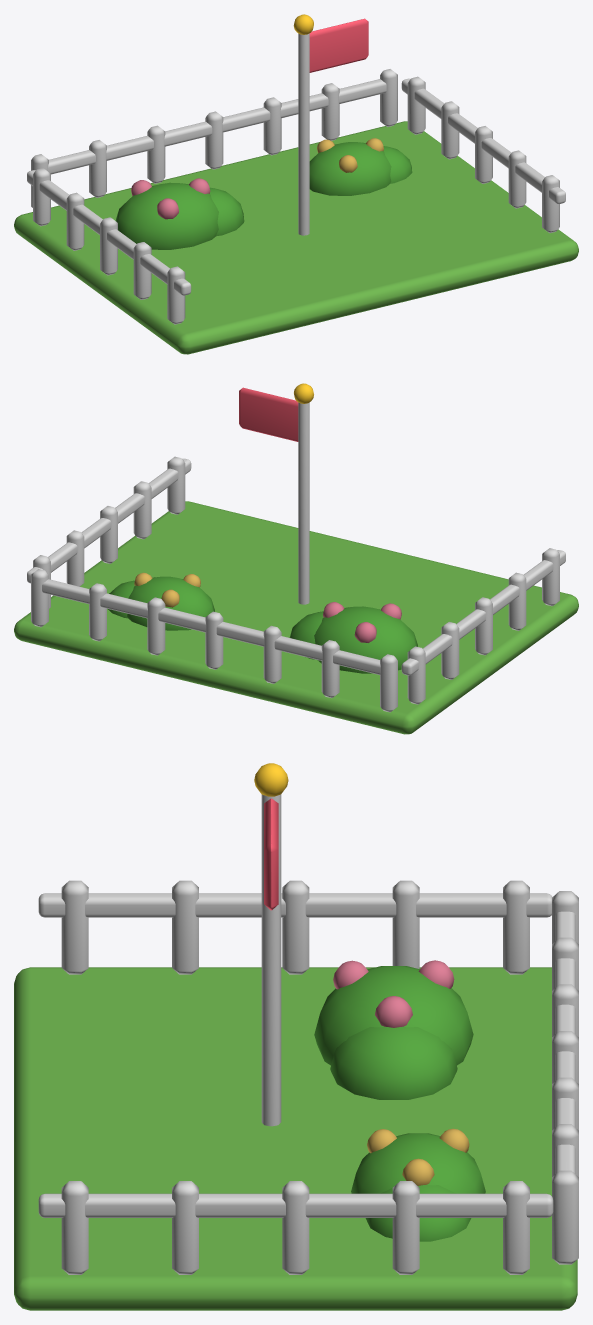
3 renders of one model, top to bottom at view 1: azimuth 30°, elevation 25°; view 2: azimuth 150°, elevation 25°; view 3: azimuth 270°, elevation 25°, orthographic. The views are drawn at different scales.
Parts seen in each view (by area): view 1: Cube; view 2: Cube; view 3: Cube.
Boxes of the visible parts, bbox=[...] form: Cube: bbox=[14, 14, 578, 354]; Cube: bbox=[14, 383, 578, 734]; Cube: bbox=[14, 763, 578, 1310].
Size of the model in its own units: 0.62 by 0.365 by 0.461.
